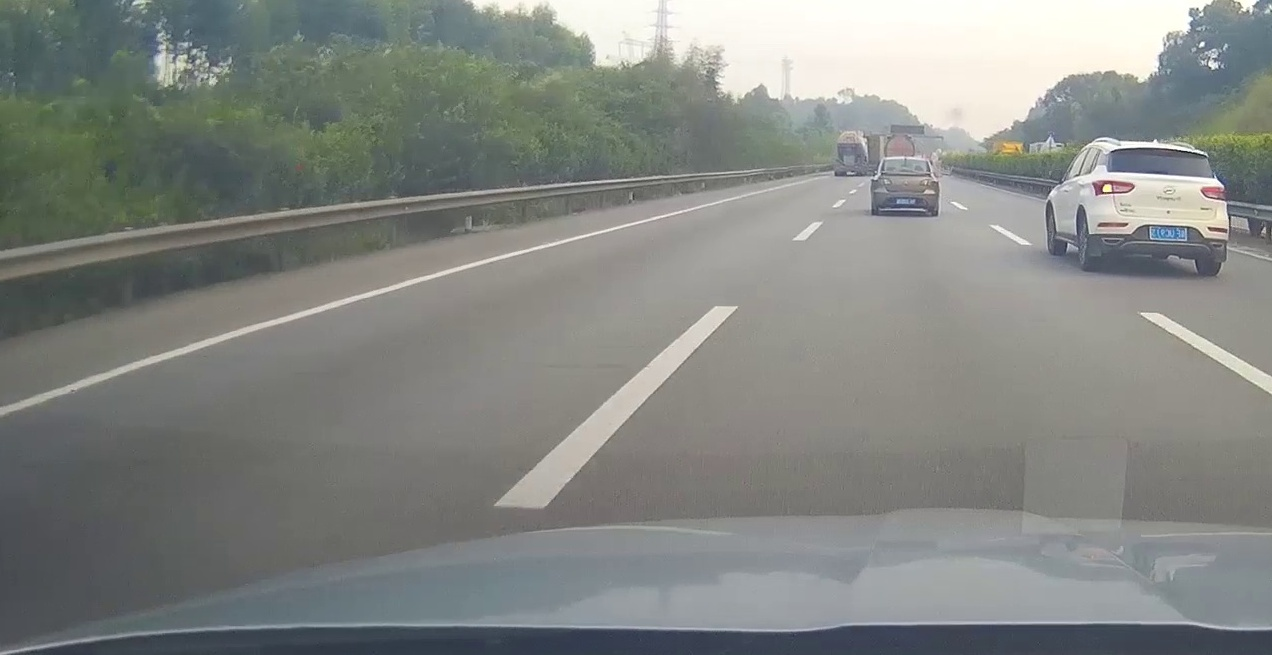L_light: (1092, 180, 1135, 195), (876, 177, 892, 185)
R_light: (1201, 186, 1226, 201), (921, 179, 936, 186)
T_light: (1157, 150, 1175, 156), (902, 160, 913, 163)
day-left: (1090, 145, 1229, 276)
day-no: (871, 158, 939, 216)
